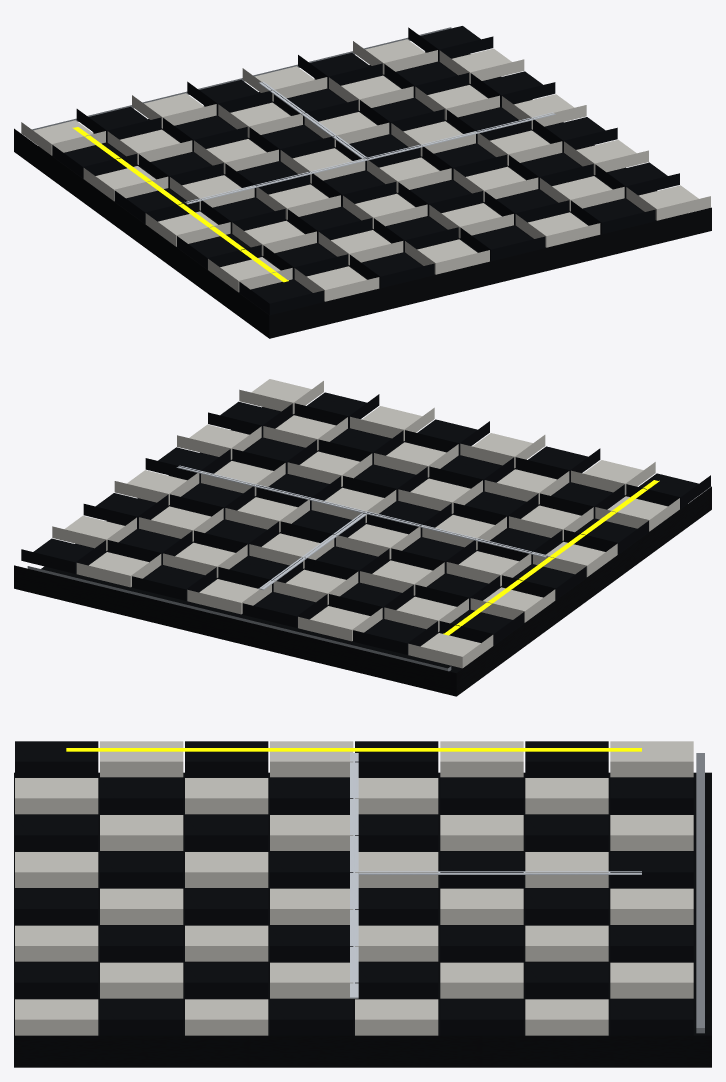
The model's file is v1_deck.glb.
3 views of the same model, one above another, from view 1: azimuth 30°, elevation 25°; view 2: azimuth 150°, elevation 25°; view 3: azimuth 270°, elevation 25° (orthographic). The views are drawn at different scales.
Visible parts, largest first — view 1: Pavers_B, Pavers_A, Deck_Slab, Court_Lines, Court_Line_Amber, Deck_Drain; view 2: Pavers_A, Pavers_B, Deck_Slab, Court_Lines, Deck_Drain, Court_Line_Amber; view 3: Pavers_B, Pavers_A, Deck_Slab, Court_Lines, Deck_Drain, Court_Line_Amber.
Boxes of the visible parts, x1,y1,x2,y2 form: Pavers_B: (52, 26, 679, 314); Pavers_A: (21, 39, 710, 301); Deck_Slab: (14, 51, 711, 338); Court_Lines: (184, 81, 555, 204); Court_Line_Amber: (72, 127, 288, 282); Deck_Drain: (32, 27, 451, 130); Pavers_A: (52, 379, 679, 668); Pavers_B: (21, 392, 710, 654); Deck_Slab: (14, 407, 711, 696); Court_Lines: (176, 465, 547, 590); Deck_Drain: (27, 566, 451, 671); Court_Line_Amber: (443, 480, 659, 635); Pavers_B: (15, 741, 693, 1035); Pavers_A: (15, 741, 693, 1035); Deck_Slab: (14, 772, 711, 1067); Court_Lines: (350, 753, 641, 998); Deck_Drain: (696, 753, 704, 1033); Court_Line_Amber: (66, 748, 641, 751).
Size of what is drawn, in the model's own units: 4 by 0.304 by 4.
Materials: 6 (3 with a texture image).
